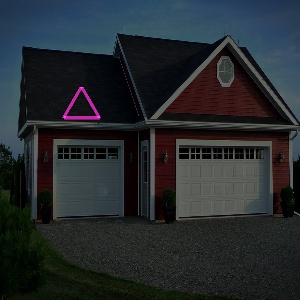triangle: (59, 85, 105, 122)
